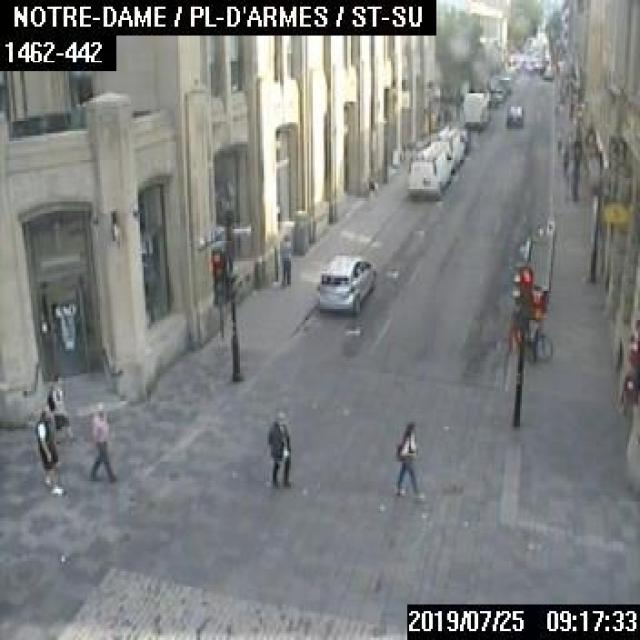pedestrian: (34, 405, 64, 491), (392, 422, 423, 496), (87, 402, 115, 482), (265, 409, 291, 487), (46, 372, 72, 442), (276, 231, 291, 285)
vehicle: (314, 252, 375, 316), (404, 138, 449, 196), (432, 126, 468, 167), (461, 90, 487, 126), (504, 102, 522, 124)
